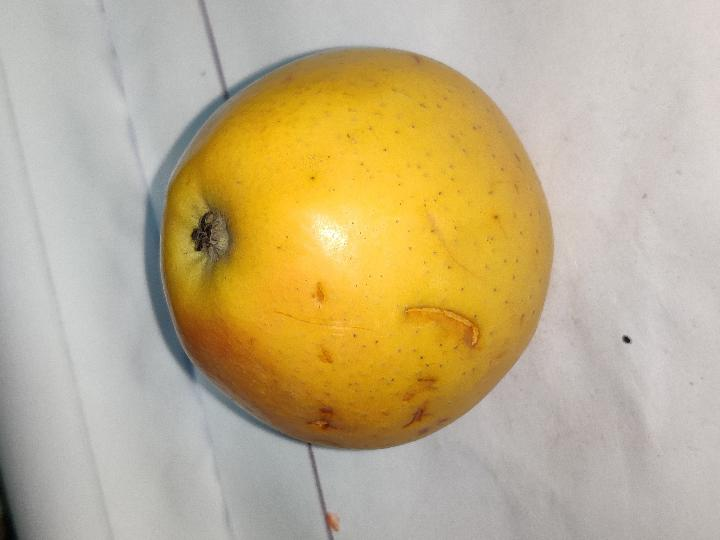apple: (162, 48, 553, 448)
surface_damage: (405, 307, 479, 347), (308, 420, 329, 429)
